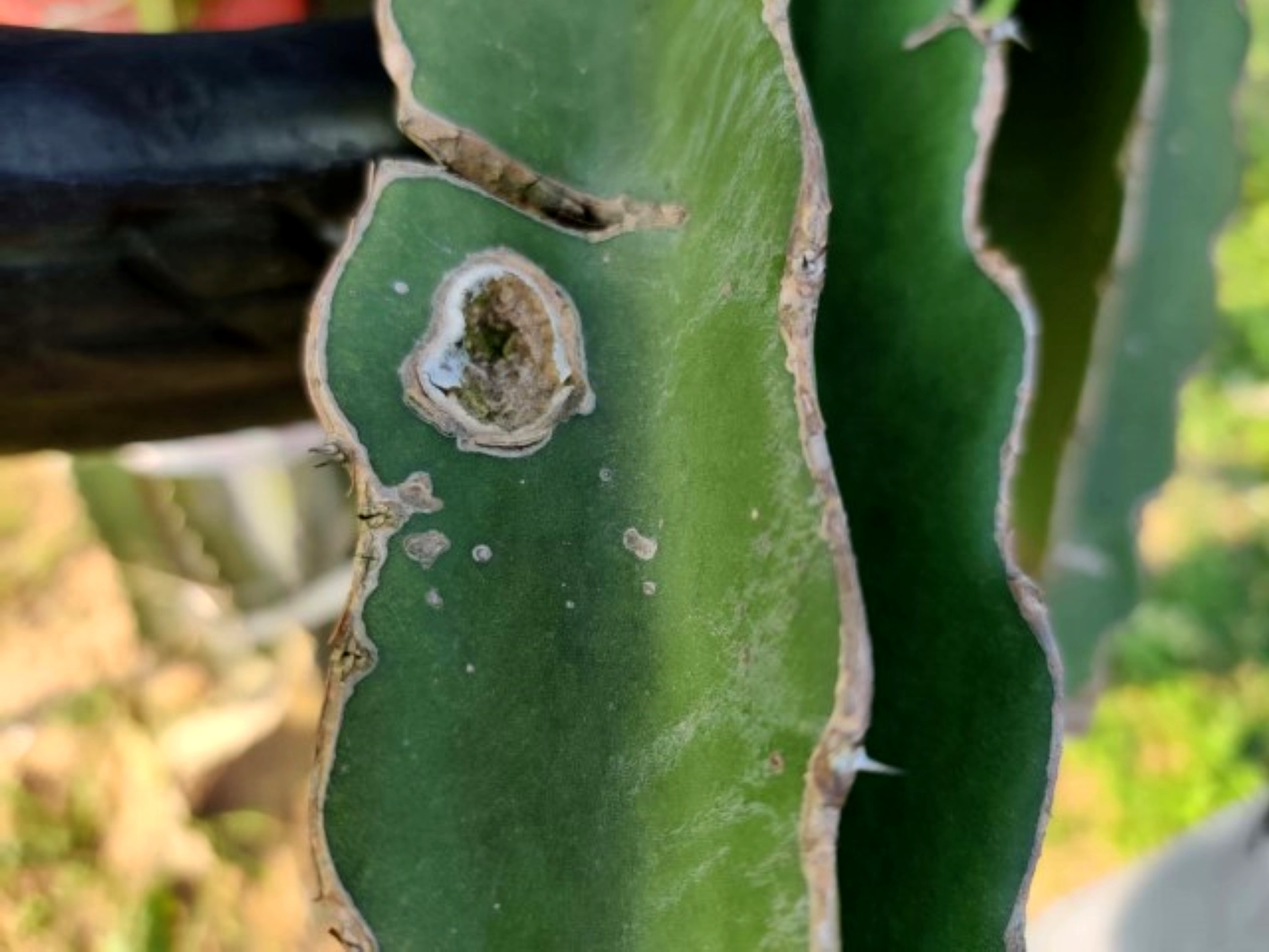stemcanker: (250, 93, 715, 662)
